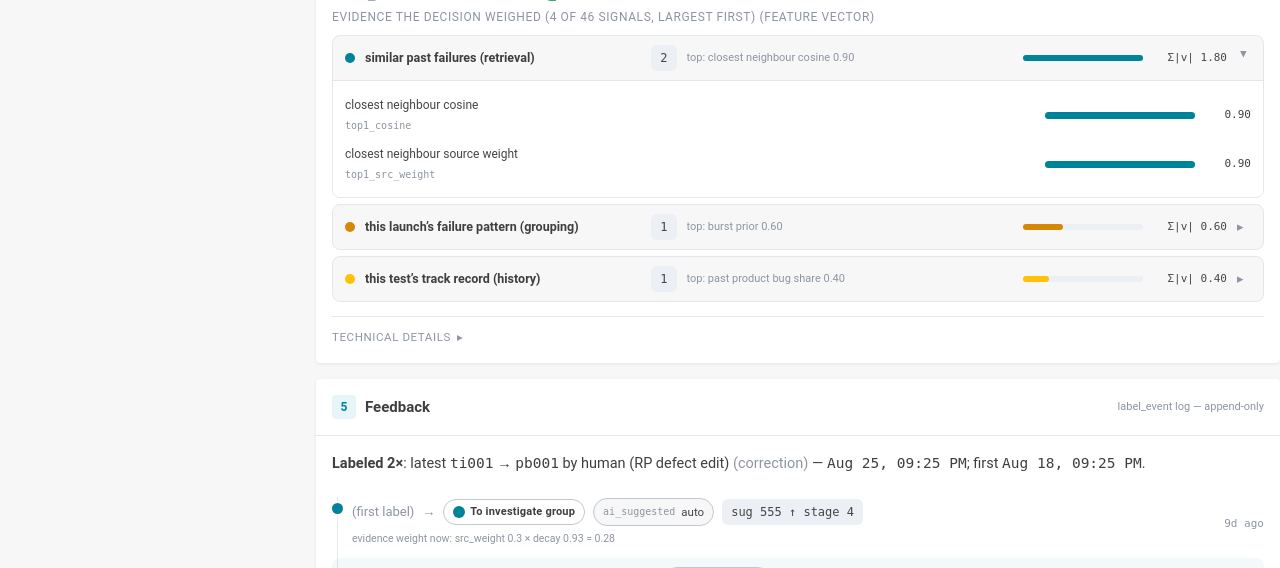
Test: Item Journey › auto-expands the evidence group holding the largest single feature
(page scrolled)
Expected: the button with class "evi-head" shows "similar past failures (retrieval)", left=333, top=36, right=1263, bottom=80
Click the button with class "evi-head" that starts with "this launch’s failure pattern (grouping)".
click(472, 226)  # box left=333, top=205, right=1263, bottom=249
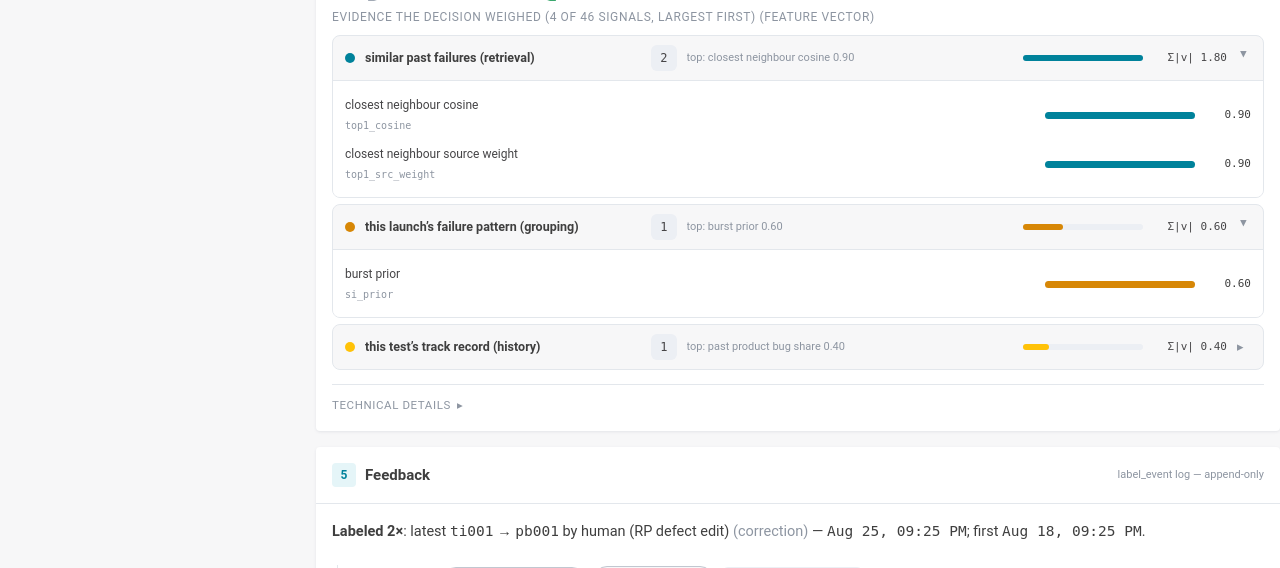
Expected: the button with class "evi-head" is expanded, left=333, top=205, right=1263, bottom=249
